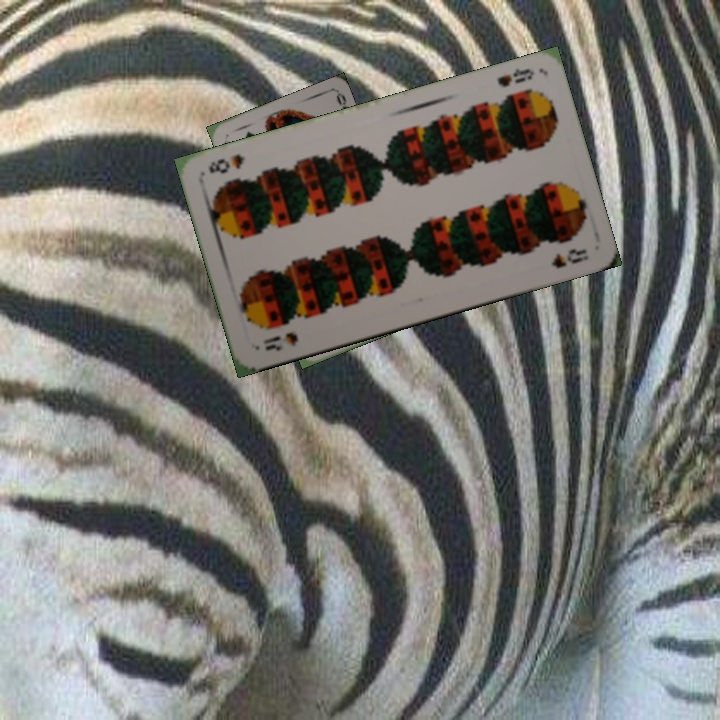S8: (493, 64, 537, 90), (258, 328, 301, 354)
